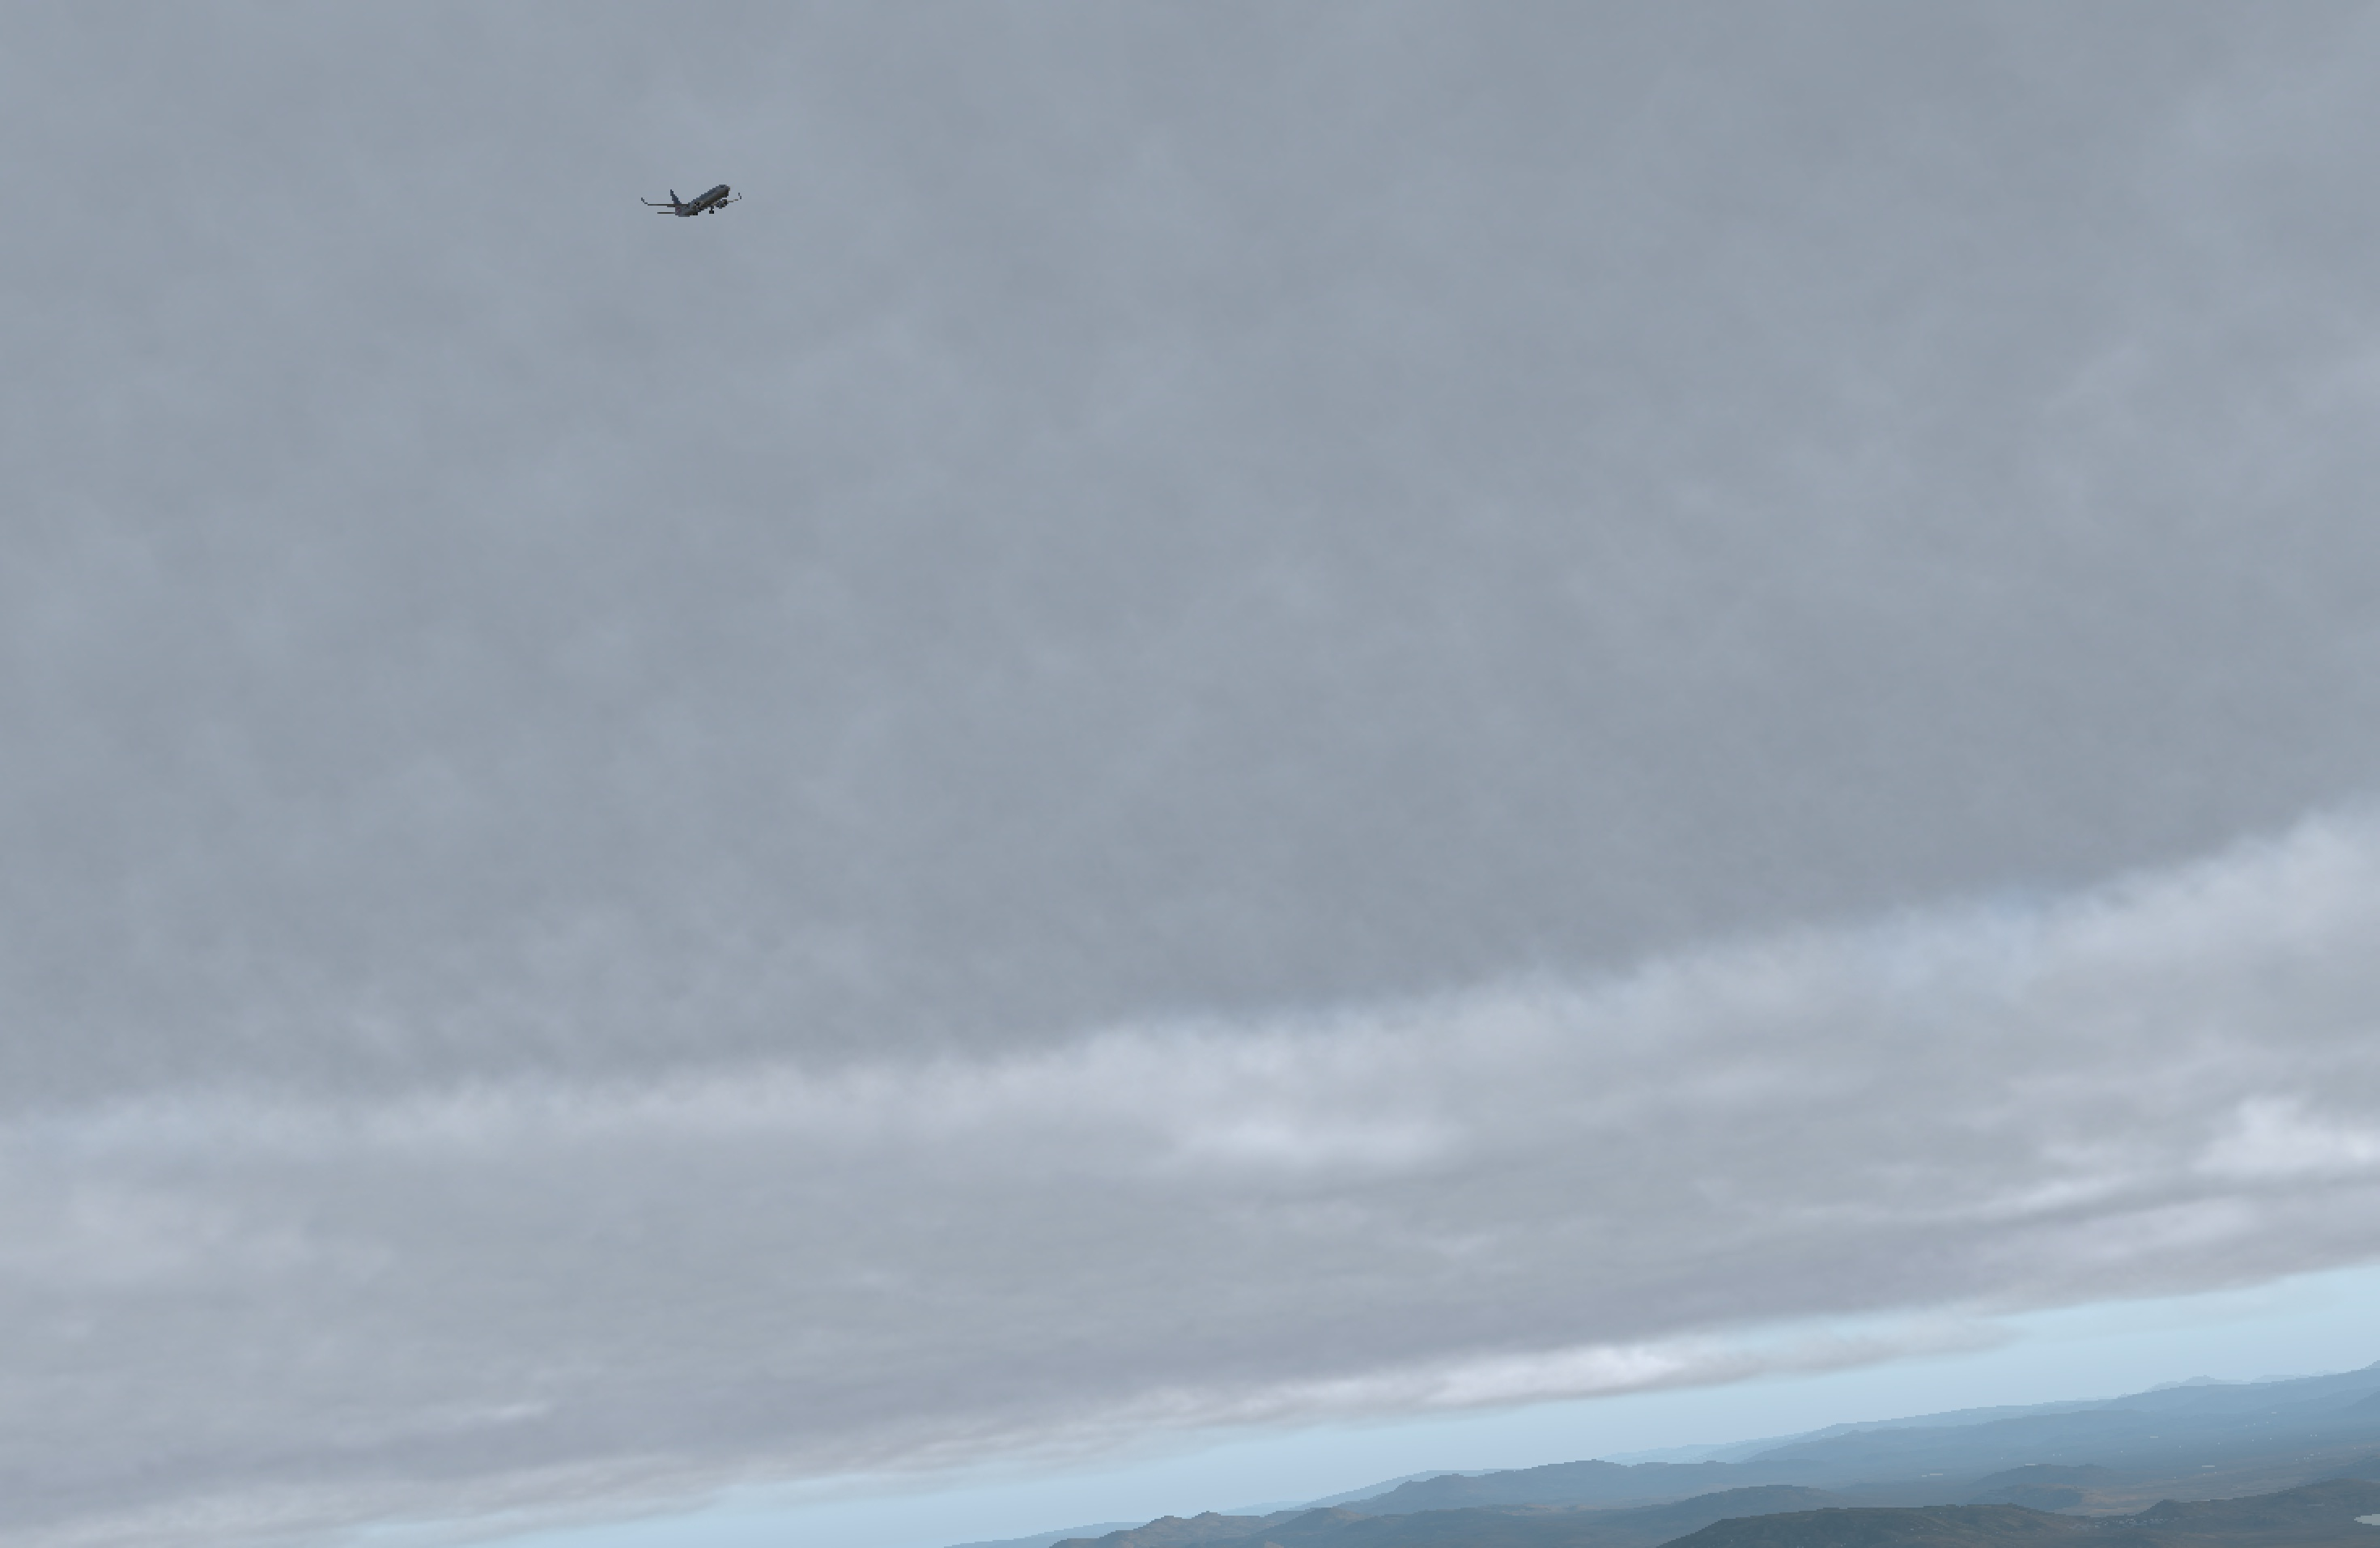aircraft: (645, 182, 762, 226)
